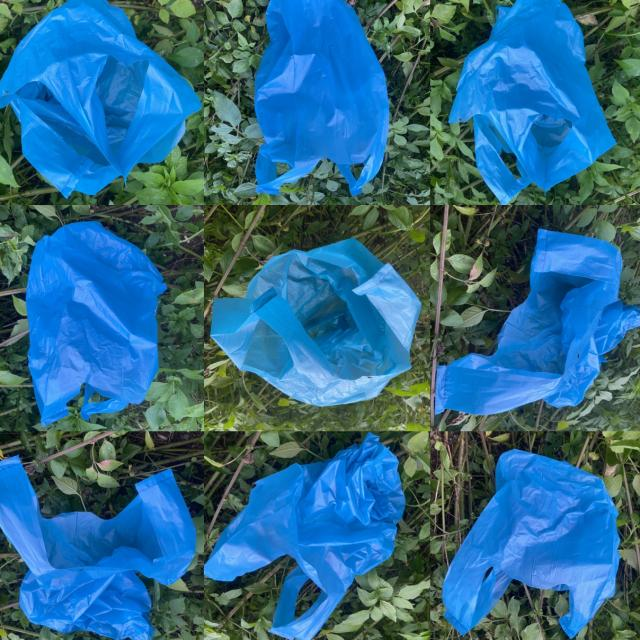plastik: (204, 433, 405, 640), (0, 0, 202, 196), (435, 229, 640, 415), (0, 456, 195, 640), (211, 239, 420, 406), (450, 0, 615, 204), (443, 449, 619, 638), (25, 221, 166, 426), (255, 0, 389, 195)
